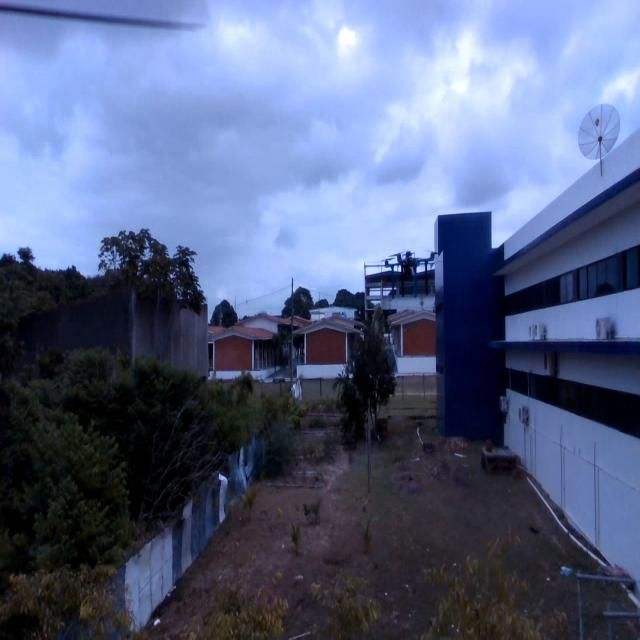-uav-: (378, 238, 442, 316)
